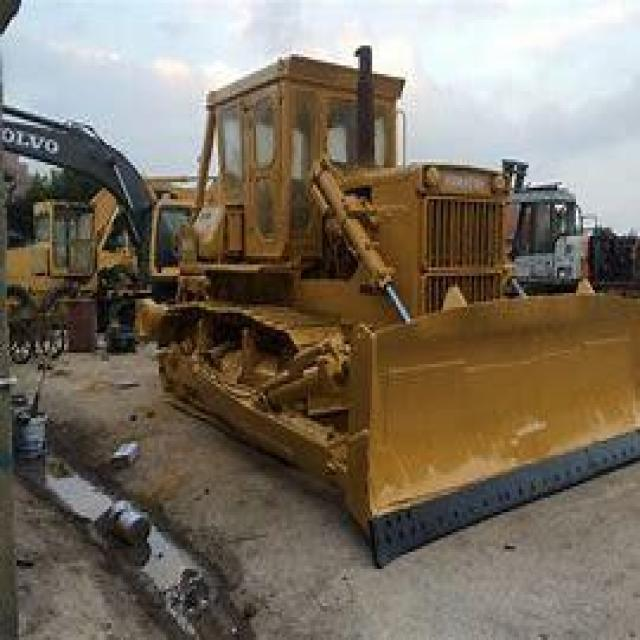buldozerpayloadergrader: (125, 34, 638, 575)
